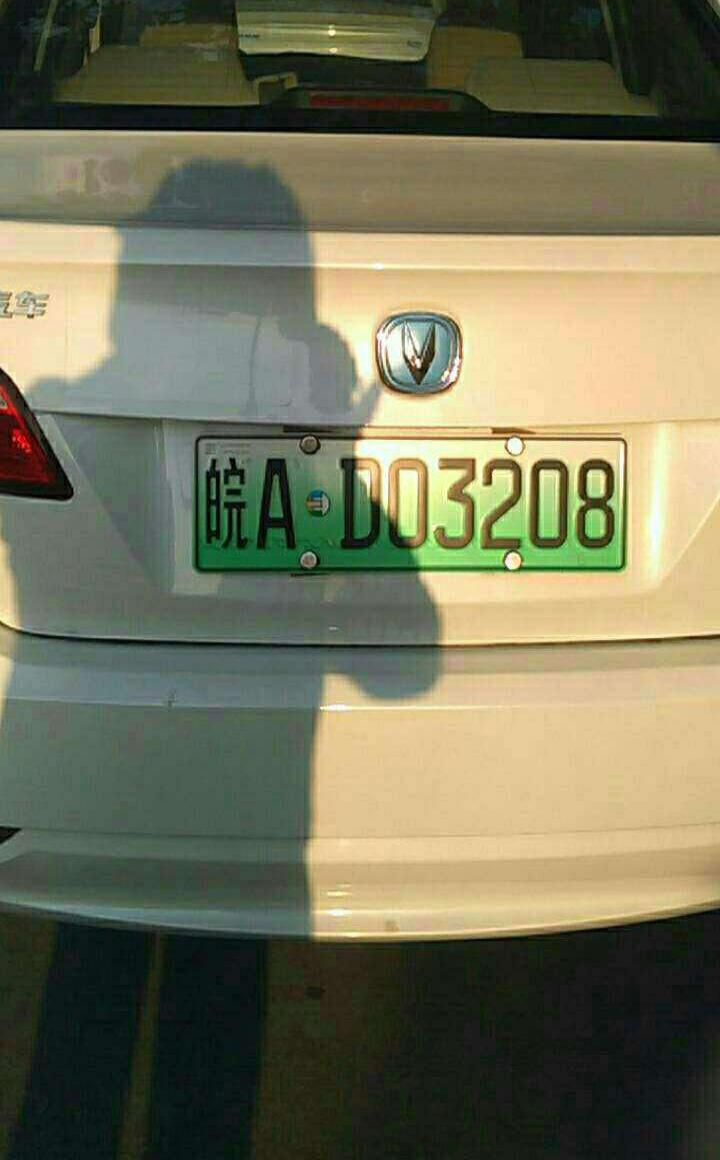car_id: (196, 442, 627, 566)
